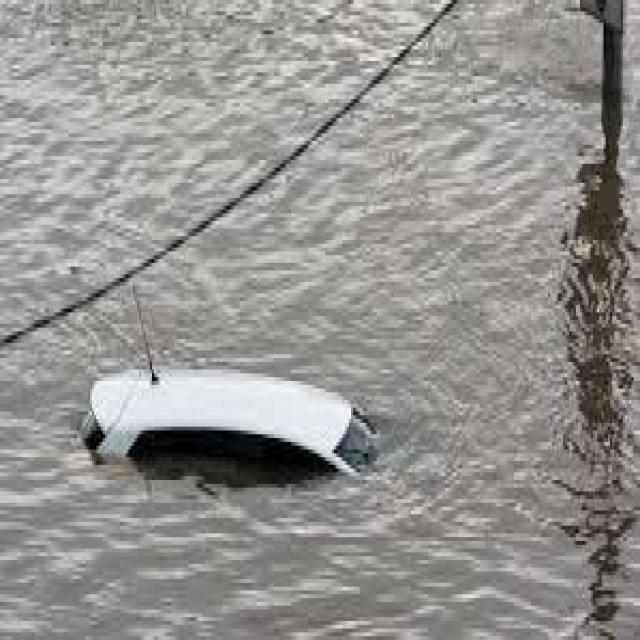water: (1, 1, 638, 639), (2, 0, 451, 339)
